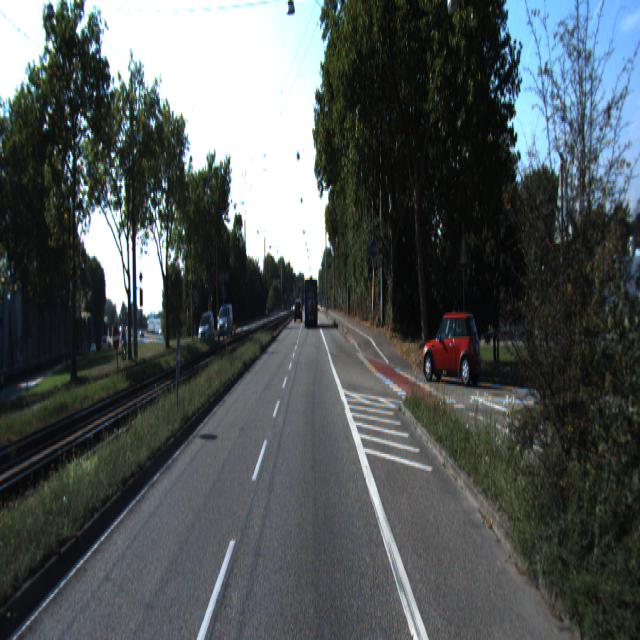Car: (421, 311, 484, 390), (304, 278, 318, 328), (217, 306, 234, 341), (198, 312, 216, 345)
